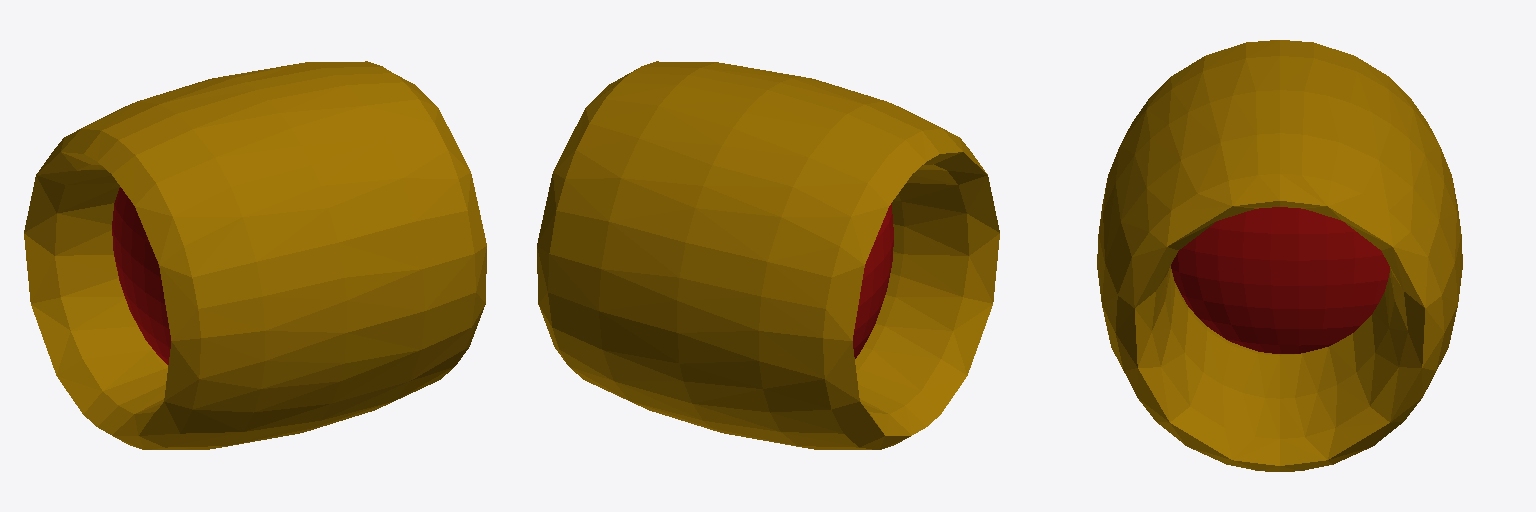
Rendered from cavetorus.obj.
3 renders of one model, left to right at view 1: azimuth 30°, elevation 25°; view 2: azimuth 150°, elevation 25°; view 3: azimuth 270°, elevation 25°, orthographic.
Visible parts, largest first — view 1: Torus.001, Sphere; view 2: Torus.001, Sphere; view 3: Torus.001, Sphere.
Part boxes in pixels (x1,y1,x2,y2): Torus.001: (24,61,486,449); Sphere: (112,187,170,364); Torus.001: (537,61,999,449); Sphere: (853,203,893,358); Torus.001: (1097,40,1462,471); Sphere: (1171,207,1389,353).
Bounding box in the file's own units: 2.5 × 2.5 × 2.5.